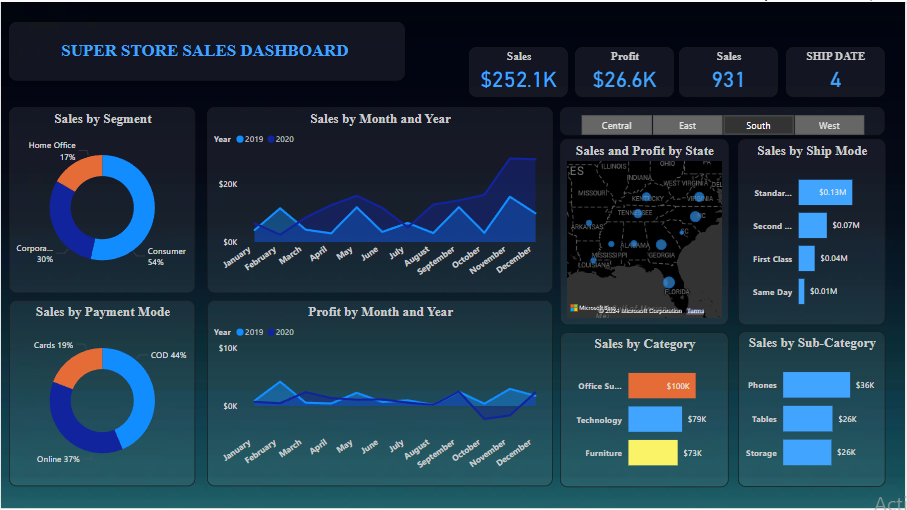

The dashboard page shown, as its layout file describes it:
{"tool":"powerbi","page":{"name":"Page 1","canvas":[1280,720],"ordinal":0},"visuals":[{"type":"clusteredBarChart","title":"Sales by Category","fields":{"Category":["SuperStore_Sales_Dataset.Category"],"Y":["Sum(SuperStore_Sales_Dataset.Sales)"]},"box":[792.9,467.1,238.6,220],"z":0},{"type":"clusteredBarChart","title":"Sales by Sub-Category","fields":{"Category":["SuperStore_Sales_Dataset.Sub-Category"],"Y":["Sum(SuperStore_Sales_Dataset.Sales)"]},"box":[1044.3,465.7,208.6,221.4],"z":1000},{"type":"clusteredBarChart","title":"Sales by Ship Mode","fields":{"Y":["Sum(SuperStore_Sales_Dataset.Sales)"],"Category":["SuperStore_Sales_Dataset.Ship Mode"]},"box":[1044.3,194.3,208.6,264.3],"z":2000},{"type":"areaChart","title":"Sales by Month and Year","fields":{"Category":["SuperStore_Sales_Dataset.Order Date.Variation.Date Hierarchy.Month","SuperStore_Sales_Dataset.Order Date.Variation.Date Hierarchy.Day"],"Y":["Sum(SuperStore_Sales_Dataset.Sales)"],"Series":["SuperStore_Sales_Dataset.Order Date.Variation.Date Hierarchy.Year"]},"box":[291.4,148.6,490,264.3],"z":3000},{"type":"areaChart","title":"Profit by Month and Year","fields":{"Category":["SuperStore_Sales_Dataset.Order Date.Variation.Date Hierarchy.Month","SuperStore_Sales_Dataset.Order Date.Variation.Date Hierarchy.Day"],"Series":["SuperStore_Sales_Dataset.Order Date.Variation.Date Hierarchy.Year"],"Y":["Sum(SuperStore_Sales_Dataset.Profit)"]},"box":[291.4,422.9,490,264.3],"z":4000},{"type":"map","title":"Sales and Profit by State","fields":{"Category":["SuperStore_Sales_Dataset.State"],"Size":["Sum(SuperStore_Sales_Dataset.Sales)"]},"box":[792.9,194.3,238.6,264.3],"z":5000},{"type":"donutChart","title":"Sales by Segment","fields":{"Category":["SuperStore_Sales_Dataset.Segment"],"Y":["Sum(SuperStore_Sales_Dataset.Sales)"]},"box":[11.4,148.6,264.3,264.3],"z":6000},{"type":"donutChart","title":"Sales by Payment Mode","fields":{"Y":["Sum(SuperStore_Sales_Dataset.Sales)"],"Category":["SuperStore_Sales_Dataset.Payment Mode"]},"box":[11.4,422.9,264.3,264.3],"z":7000},{"type":"slicer","title":"Region","fields":{"Values":["SuperStore_Sales_Dataset.Region"]},"box":[792.9,148.6,460,40],"z":8000},{"type":"card","title":"Sales","fields":{"Values":["Sum(SuperStore_Sales_Dataset.Sales)"]},"box":[662.9,64.3,140,71.4],"z":9000},{"type":"card","title":"Profit","fields":{"Values":["Sum(SuperStore_Sales_Dataset.Profit)"]},"box":[812.9,64.3,140,71.4],"z":10000},{"type":"card","title":"Sales","fields":{"Values":["CountNonNull(SuperStore_Sales_Dataset.Order ID)"]},"box":[961.4,64.3,140,71.4],"z":11000},{"type":"card","title":"SHIP DATE","fields":{"Values":["Avg(SuperStore_Sales_Dataset.AvgDelivery)"]},"box":[1112.9,64.3,140,71.4],"z":12000},{"type":"textbox","box":[11.4,28.6,561.4,82.9],"z":13000}]}

Visuals, with their boxes in screenshot pixels (x1, y1, x2, y2), scaled from the page's 1280x720 canvas onto the 907x510 screenshot:
"Sales by Category" clusteredBarChart: (562,331,731,487)
"Sales by Sub-Category" clusteredBarChart: (740,330,888,487)
"Sales by Ship Mode" clusteredBarChart: (740,138,888,325)
"Sales by Month and Year" areaChart: (206,105,554,292)
"Profit by Month and Year" areaChart: (206,300,554,487)
"Sales and Profit by State" map: (562,138,731,325)
"Sales by Segment" donutChart: (8,105,195,292)
"Sales by Payment Mode" donutChart: (8,300,195,487)
"Region" slicer: (562,105,888,134)
"Sales" card: (470,46,569,96)
"Profit" card: (576,46,675,96)
"Sales" card: (681,46,780,96)
"SHIP DATE" card: (789,46,888,96)
textbox: (8,20,406,79)
